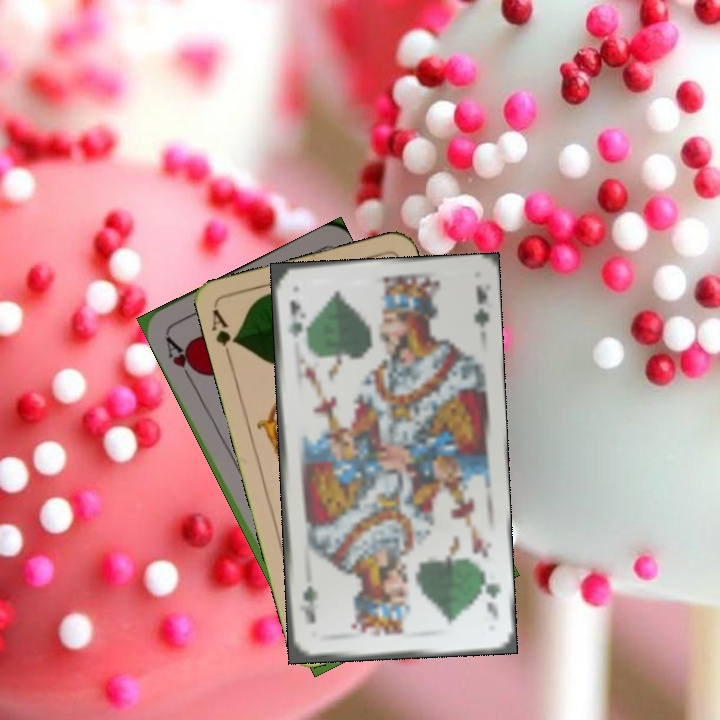GA: (208, 305, 241, 363)
GK: (478, 569, 504, 624), (283, 296, 306, 340)
HA: (161, 332, 202, 386)
